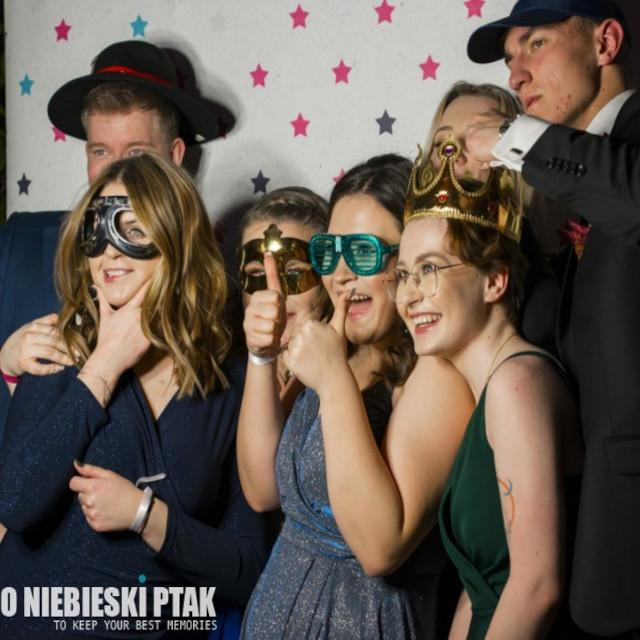kobieta: (0, 154, 227, 640), (397, 207, 573, 640), (286, 150, 410, 640), (238, 182, 324, 367), (416, 81, 527, 205)
mezczyzna: (506, 0, 640, 640), (0, 83, 208, 320)
